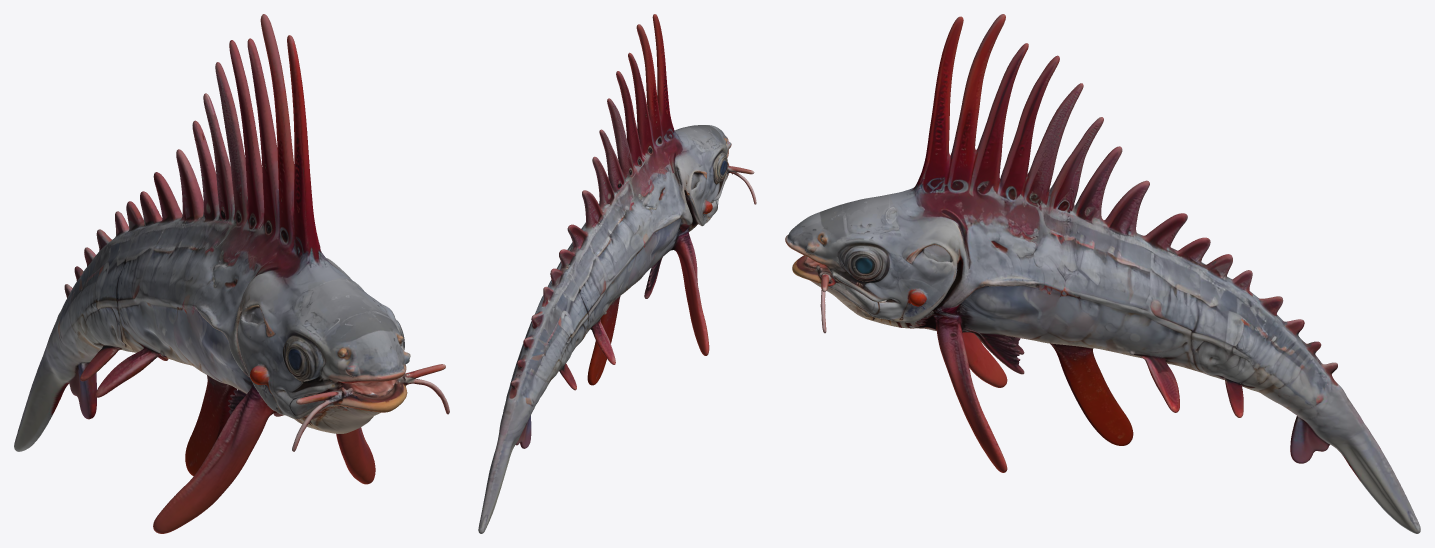
File: oarY_1.glb
3 renders of one model, left to right at view 1: azimuth 30°, elevation 25°; view 2: azimuth 150°, elevation 25°; view 3: azimuth 270°, elevation 25°, orthographic. The views are drawn at different scales.
Parts seen in each view (by area): view 1: tripo_node_ba8eced9-705a-478d-ac7c-75b639e66cb2; view 2: tripo_node_ba8eced9-705a-478d-ac7c-75b639e66cb2; view 3: tripo_node_ba8eced9-705a-478d-ac7c-75b639e66cb2.
Boxes of the visible parts, box(x1,y1,x2,y2) form: tripo_node_ba8eced9-705a-478d-ac7c-75b639e66cb2: box(14, 14, 449, 533); tripo_node_ba8eced9-705a-478d-ac7c-75b639e66cb2: box(478, 14, 756, 533); tripo_node_ba8eced9-705a-478d-ac7c-75b639e66cb2: box(785, 14, 1420, 533).
Size of the model in its own units: 0.3376 by 0.9012 by 1.
Materials: 1 (1 with a texture image).
